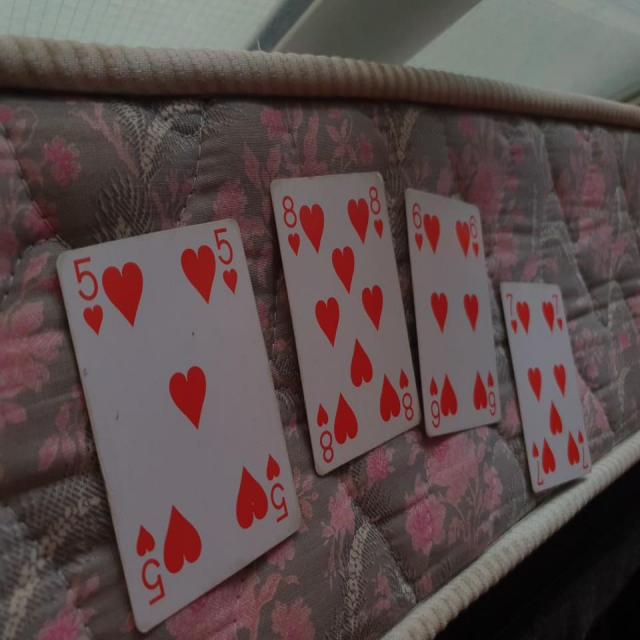5 Hearts: (48, 210, 301, 620)
6 Hearts: (405, 172, 500, 444)
7 Hearts: (496, 274, 601, 501)
8 Hearts: (266, 153, 424, 476)
